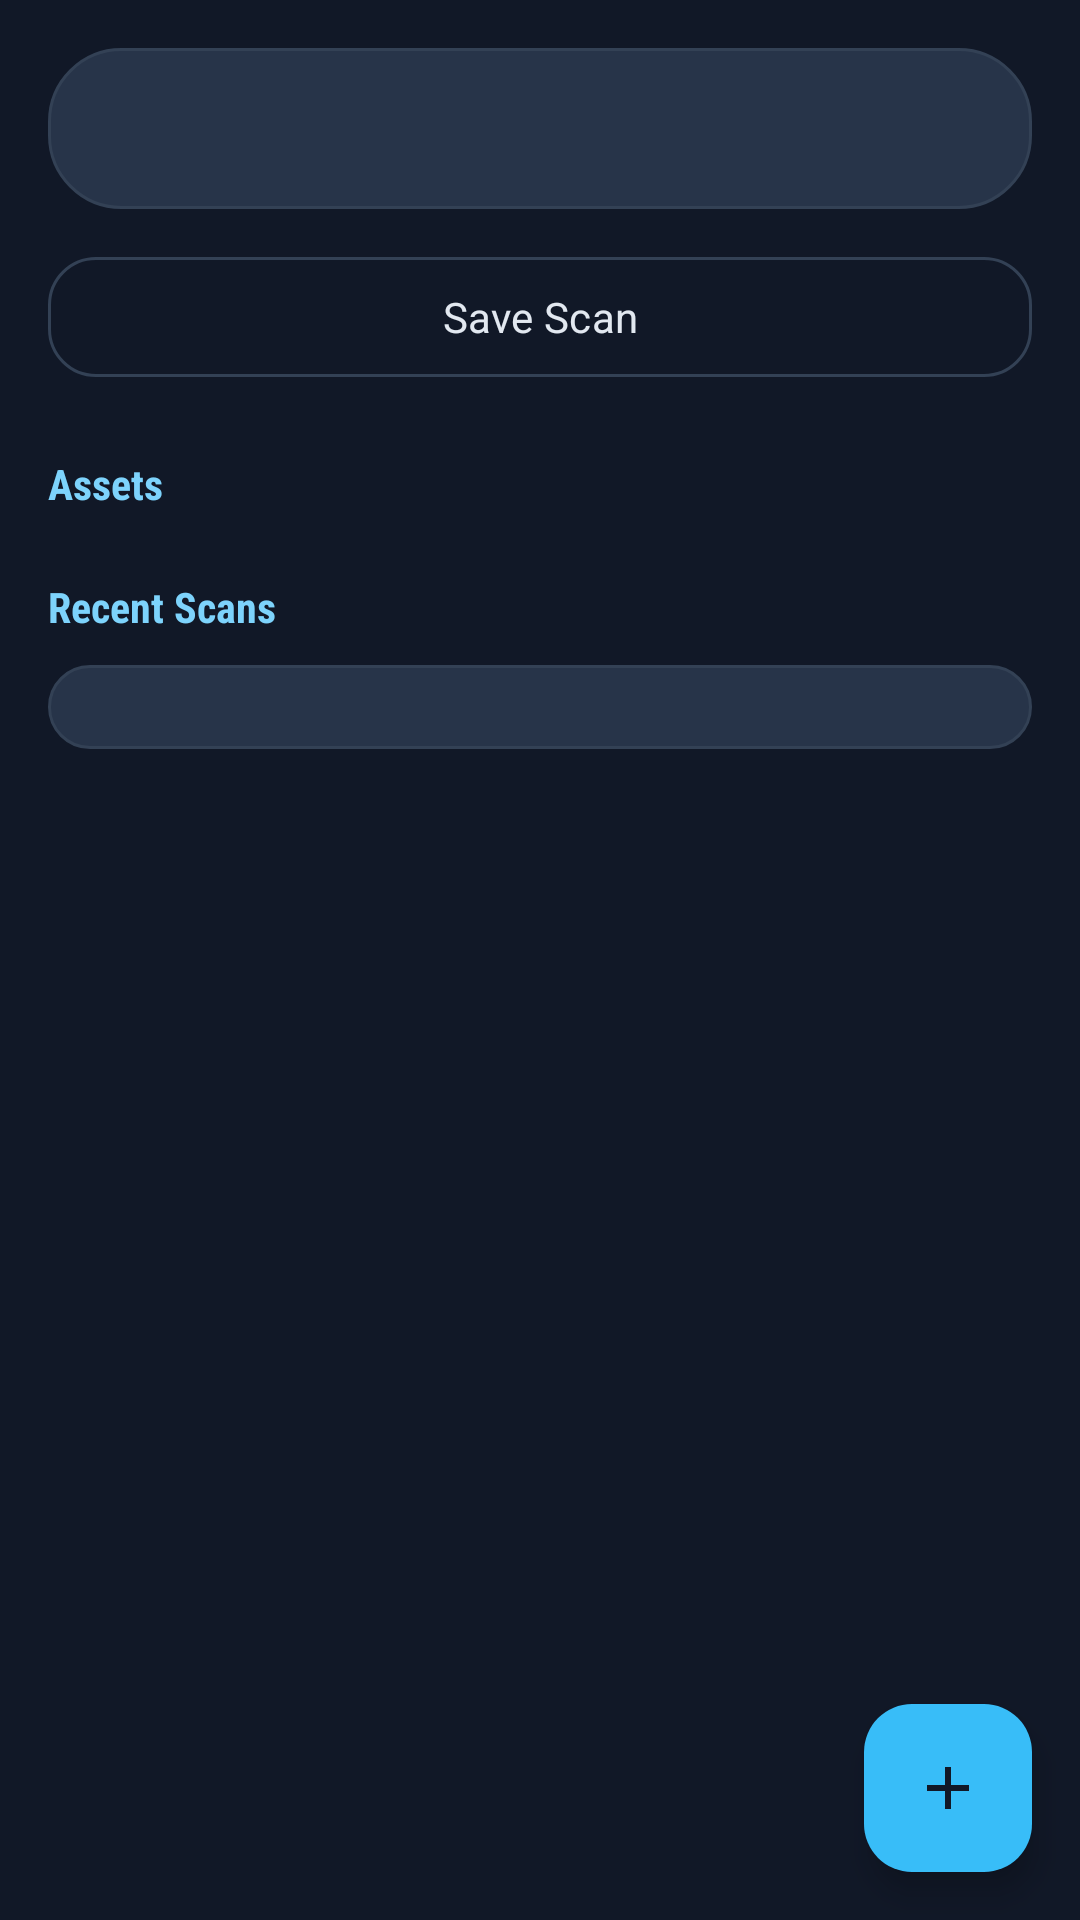

Screen size 1080 x 1920. Icon name, then its box in pixels as (x1, y1, x2, y2):
Add asset: (864, 1704, 1032, 1872)
